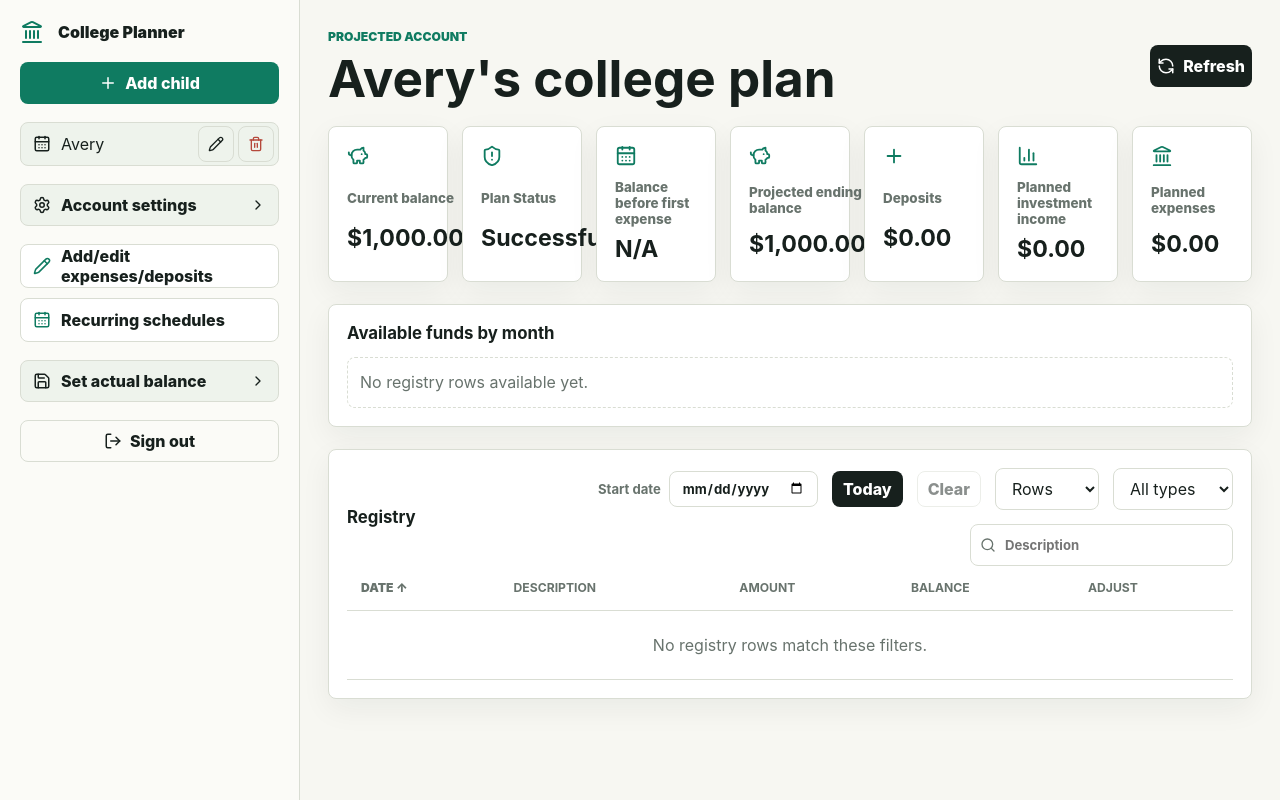
it: PlannerApp schedule workspace › does not let a stale registry response overwrite the latest date filter
(page scrolled)
In the date field labelled "Start date": x=743, y=489 [669, 471, 818, 507], type "2026-01-15"
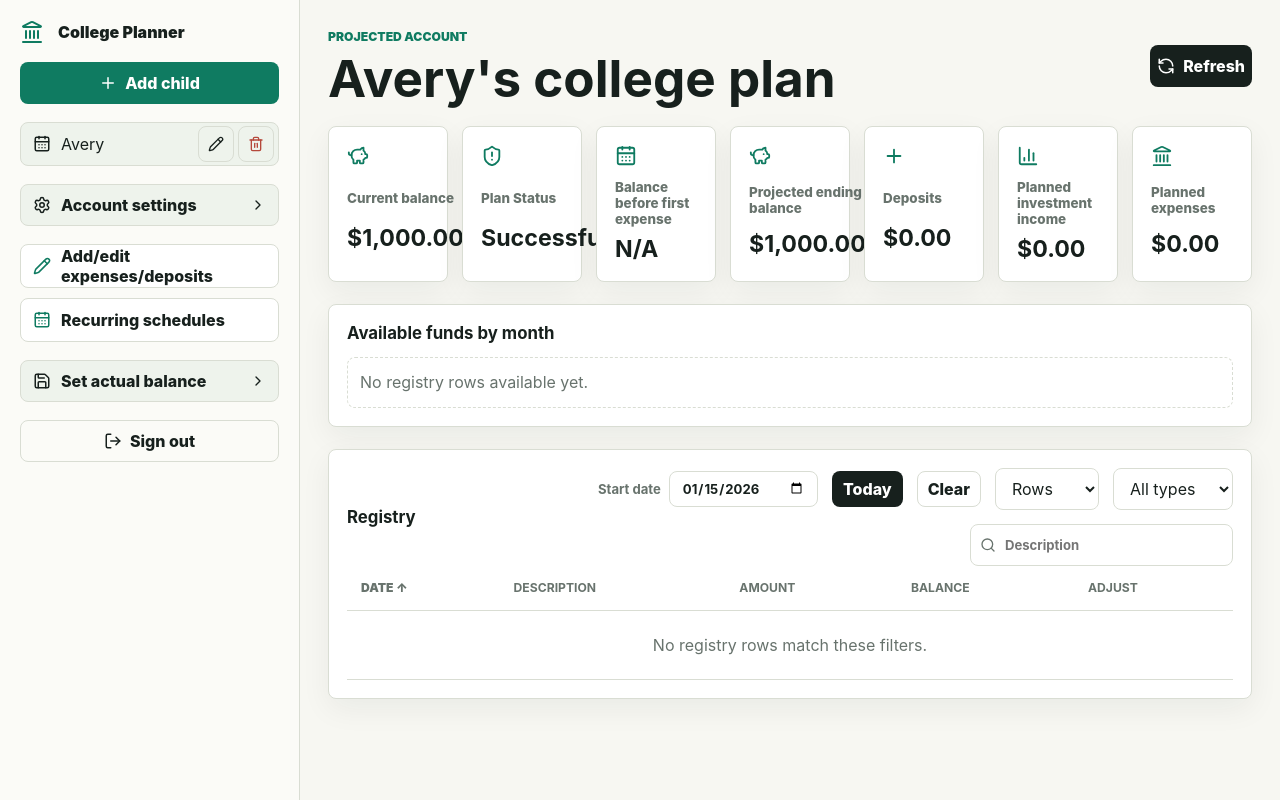
In the date field labelled "Start date": x=743, y=489 [669, 471, 818, 507], type "2026-02-15"
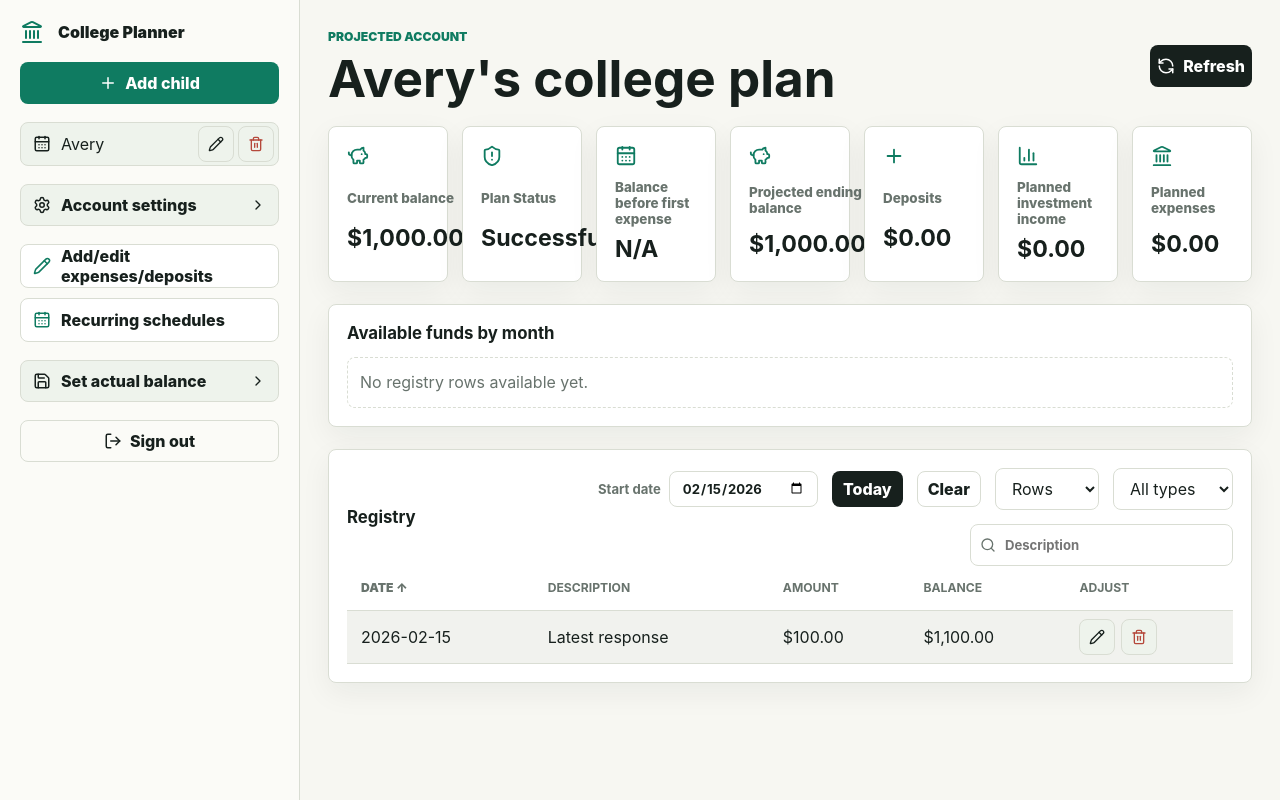
Expected: the text "Latest response" is shown, [534, 610, 769, 664]
